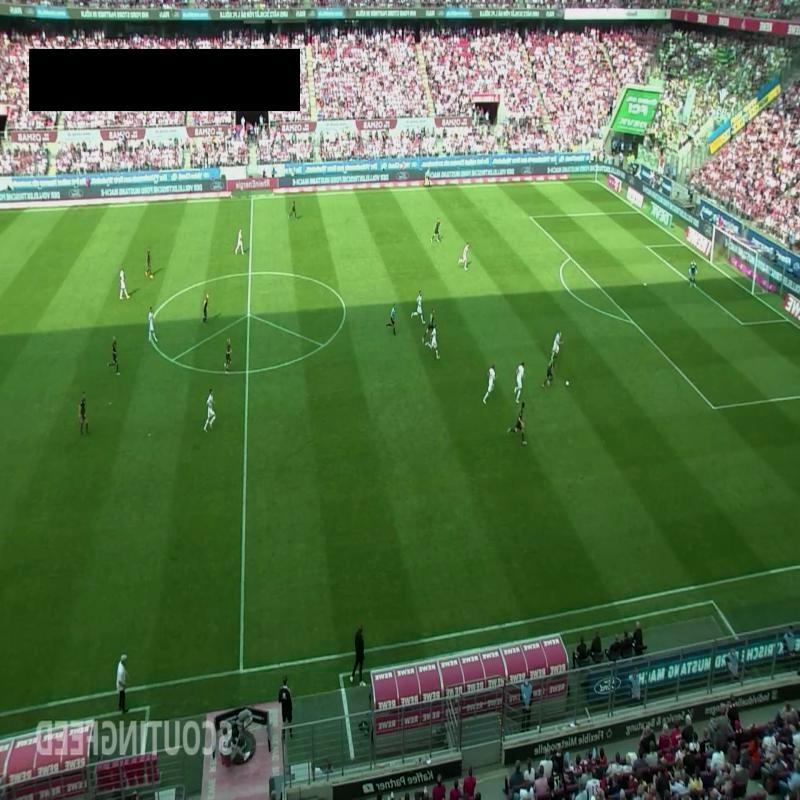1: (588, 175, 602, 189)
10: (564, 252, 578, 266)
11: (626, 315, 640, 329)
12: (706, 400, 720, 415)
13: (246, 190, 260, 204)
14: (243, 266, 256, 280)
15: (241, 363, 255, 377)
16: (232, 662, 250, 680)
2: (634, 205, 648, 219)
3: (677, 237, 691, 251)
4: (782, 313, 796, 327)
7: (640, 238, 654, 252)
8: (734, 316, 748, 330)
9: (524, 208, 538, 222)
c: (144, 316, 158, 330), (338, 300, 351, 314)
